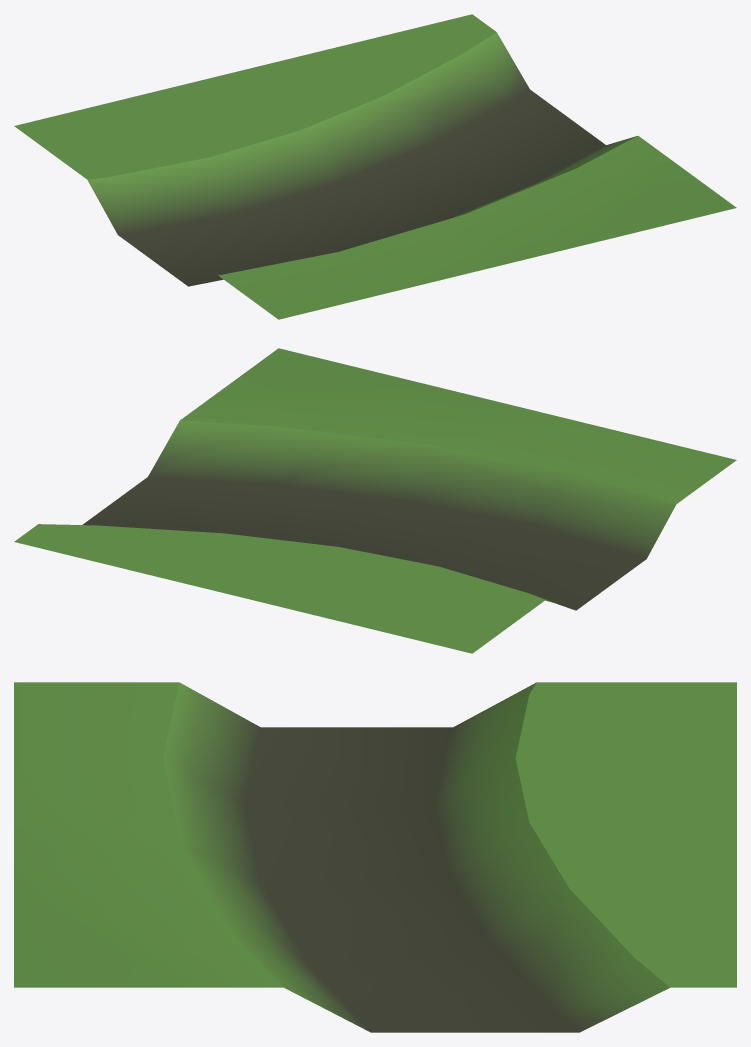
File: terrain_8_8_4.glb
3 renders of one model, top to bottom at view 1: azimuth 30°, elevation 25°; view 2: azimuth 150°, elevation 25°; view 3: azimuth 270°, elevation 25°, orthographic. The views are drawn at different scales.
Parts seen in each view (by area): view 1: m; view 2: m; view 3: m.
Part boxes in pixels (x1=…): m: x1=14, y1=14, x2=736, y2=319; m: x1=14, y1=348, x2=736, y2=653; m: x1=14, y1=682, x2=736, y2=1032.
Bounding box in the file's own units: 8 × 0.55 × 8.
